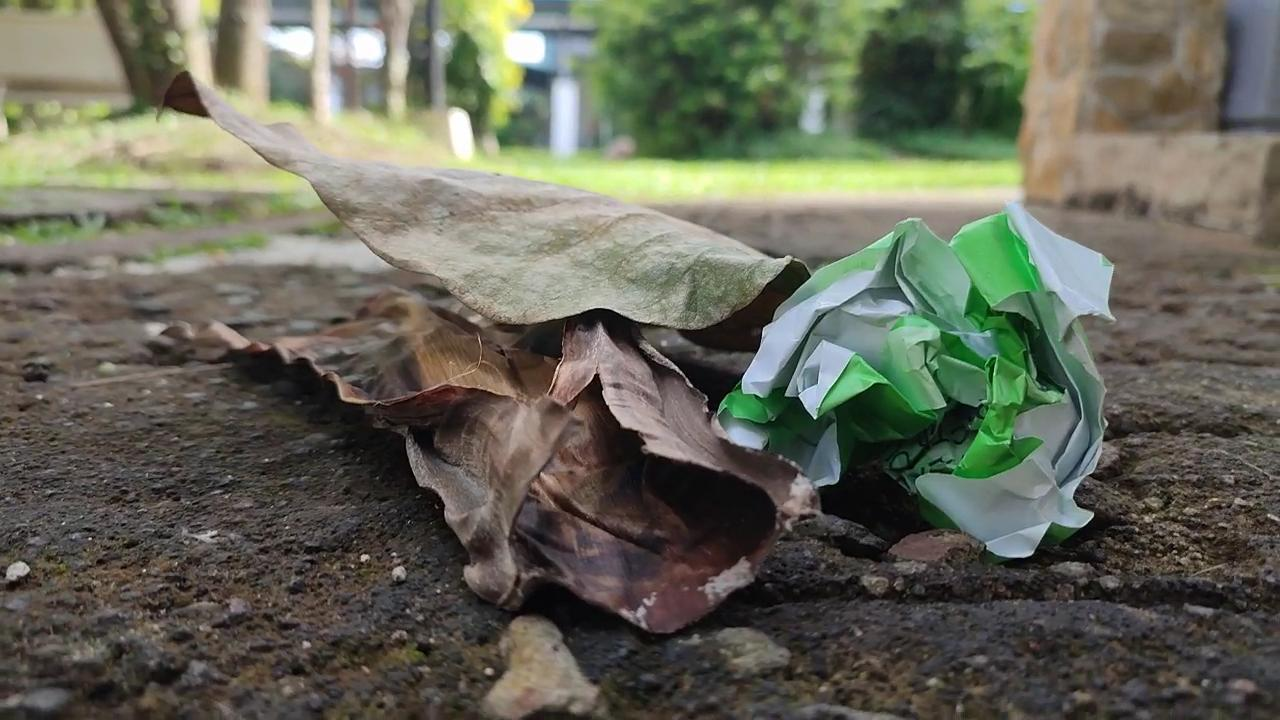Paper: (753, 198, 1139, 571)
